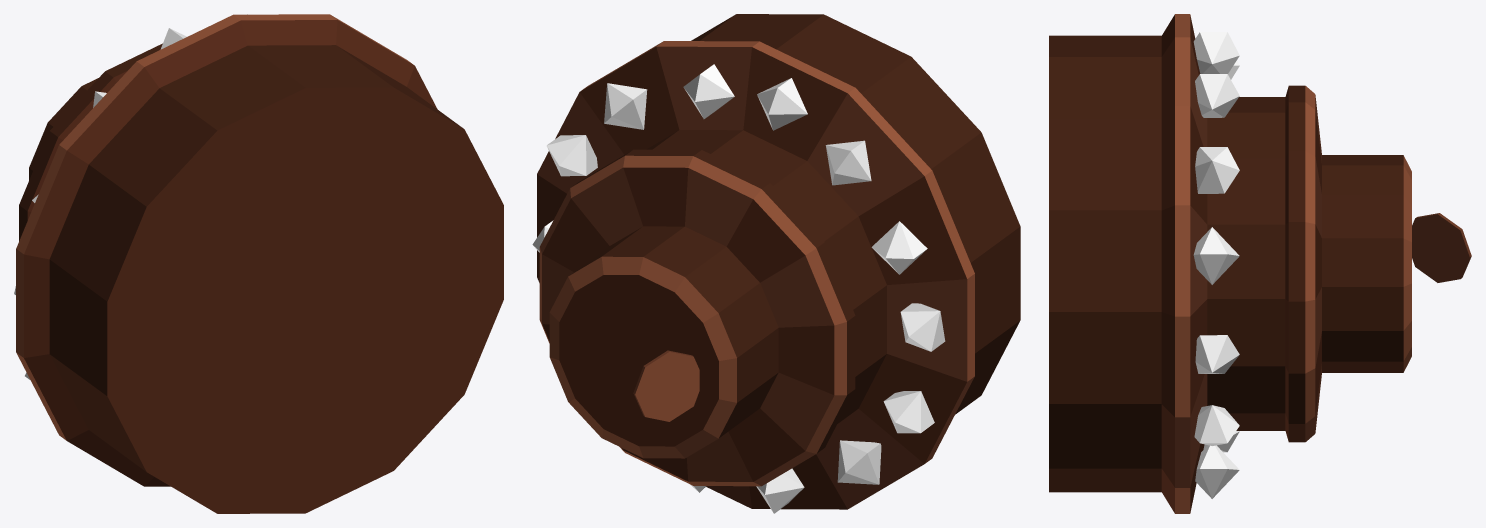
Rendered from pink_cake_2_2.fbx.
The picture shows the model from 3 angles, left to right: view 1: azimuth 30°, elevation 25°; view 2: azimuth 150°, elevation 25°; view 3: azimuth 270°, elevation 25°; orthographic projection. The views are drawn at different scales.
Parts seen in each view (by area): view 1: pink_cake_2_2; view 2: pink_cake_2_2; view 3: pink_cake_2_2.
Boxes of the visible parts, x1=… form: pink_cake_2_2: x1=14, y1=14, x2=503, y2=513; pink_cake_2_2: x1=532, y1=14, x2=1020, y2=513; pink_cake_2_2: x1=1049, y1=14, x2=1471, y2=513.
Size of the model in its own units: 506 by 519 by 439.
